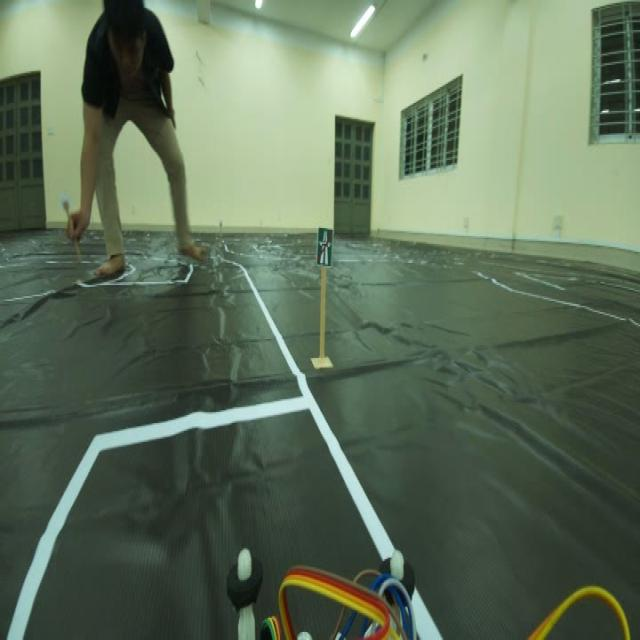highway_exit: (313, 221, 335, 270)
